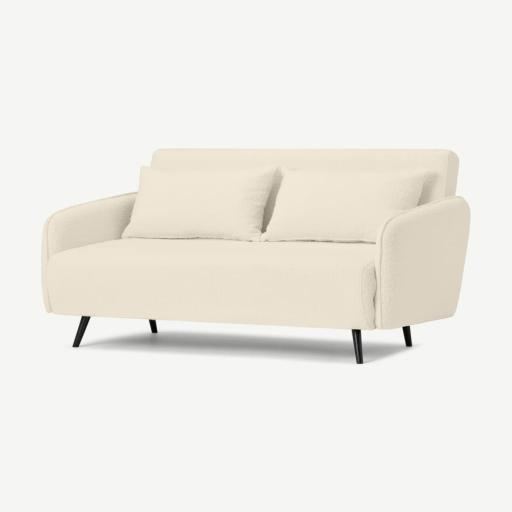back_cushion: (127, 142, 469, 292)
legs: (66, 296, 83, 322), (343, 339, 355, 370), (404, 320, 414, 339)
seat_cushion: (42, 225, 437, 339)
two-seater: (0, 0, 511, 512)
